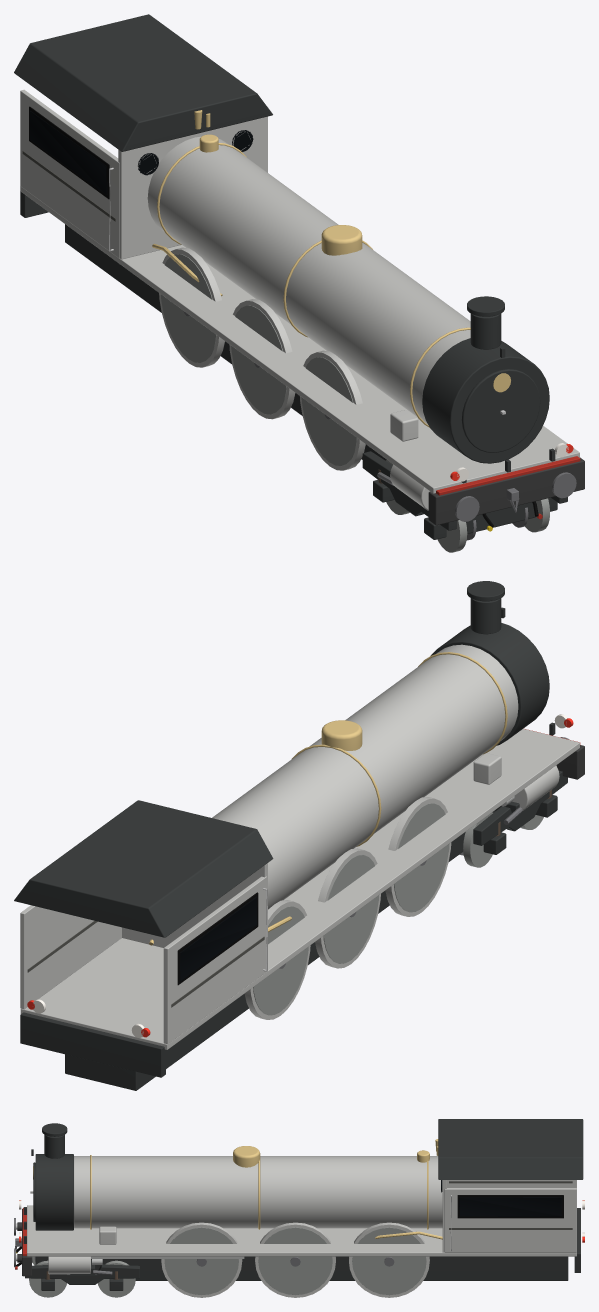
The model's file is rail.train.steam_big.glb.
3 views of the same model, one above another, from view 1: azimuth 30°, elevation 25°; view 2: azimuth 150°, elevation 25°; view 3: azimuth 270°, elevation 25° (orthographic). The views are drawn at different scales.
Parts seen in each view (by area): view 1: main__paint_ccc, main__paint_333, main__galv_999, main__steel_444, main__galv_dc8, main__glass_dark, main__galv_777, main__rubber, main__paint_b32; view 2: main__paint_ccc, main__paint_333, main__galv_999, main__glass_dark, main__galv_dc8, main__rubber, main__paint_555; view 3: main__paint_ccc, main__paint_333, main__galv_999, main__glass_dark, main__galv_dc8, main__rubber, main__paint_555, main__galv_bbb, main__galv_777, main__steel_444.
Boxes of the visible parts, <box> form: main__paint_ccc: <box>20,89,579,510</box>; main__paint_333: <box>14,14,567,539</box>; main__galv_999: <box>161,254,549,552</box>; main__steel_444: <box>428,457,584,525</box>; main__galv_dc8: <box>152,110,510,427</box>; main__glass_dark: <box>30,111,253,195</box>; main__galv_777: <box>183,311,576,540</box>; main__rubber: <box>29,106,538,527</box>; main__paint_b32: <box>436,456,580,519</box>; main__paint_ccc: <box>20,644,579,1049</box>; main__paint_333: <box>14,581,567,1090</box>; main__galv_999: <box>253,803,543,1015</box>; main__glass_dark: <box>180,896,257,980</box>; main__galv_dc8: <box>149,652,507,945</box>; main__rubber: <box>177,892,258,985</box>; main__paint_555: <box>27,920,264,1007</box>; main__paint_ccc: <box>27,1156,576,1297</box>; main__paint_333: <box>23,1119,583,1290</box>; main__galv_999: <box>29,1227,426,1297</box>; main__glass_dark: <box>441,1180,562,1216</box>; main__galv_dc8: <box>33,1139,442,1239</box>; main__rubber: <box>16,1195,563,1266</box>; main__paint_555: <box>449,1181,572,1229</box>; main__galv_bbb: <box>91,1256,244,1264</box>; main__galv_777: <box>14,1218,394,1275</box>; main__steel_444: <box>17,1209,32,1276</box>.
Bounding box in the file's own units: 2.85 × 4 × 13.4.
